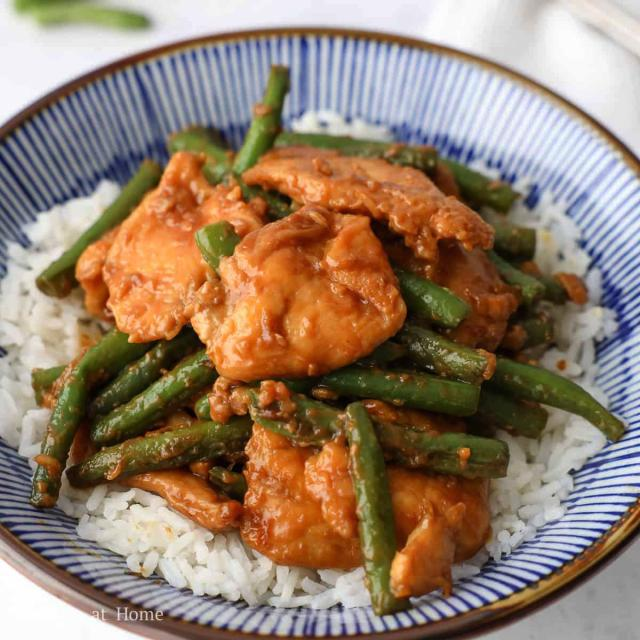String Bean Chicken Breast: (26, 61, 628, 613)
rice: (77, 488, 366, 609), (0, 178, 117, 456), (488, 408, 602, 556)
